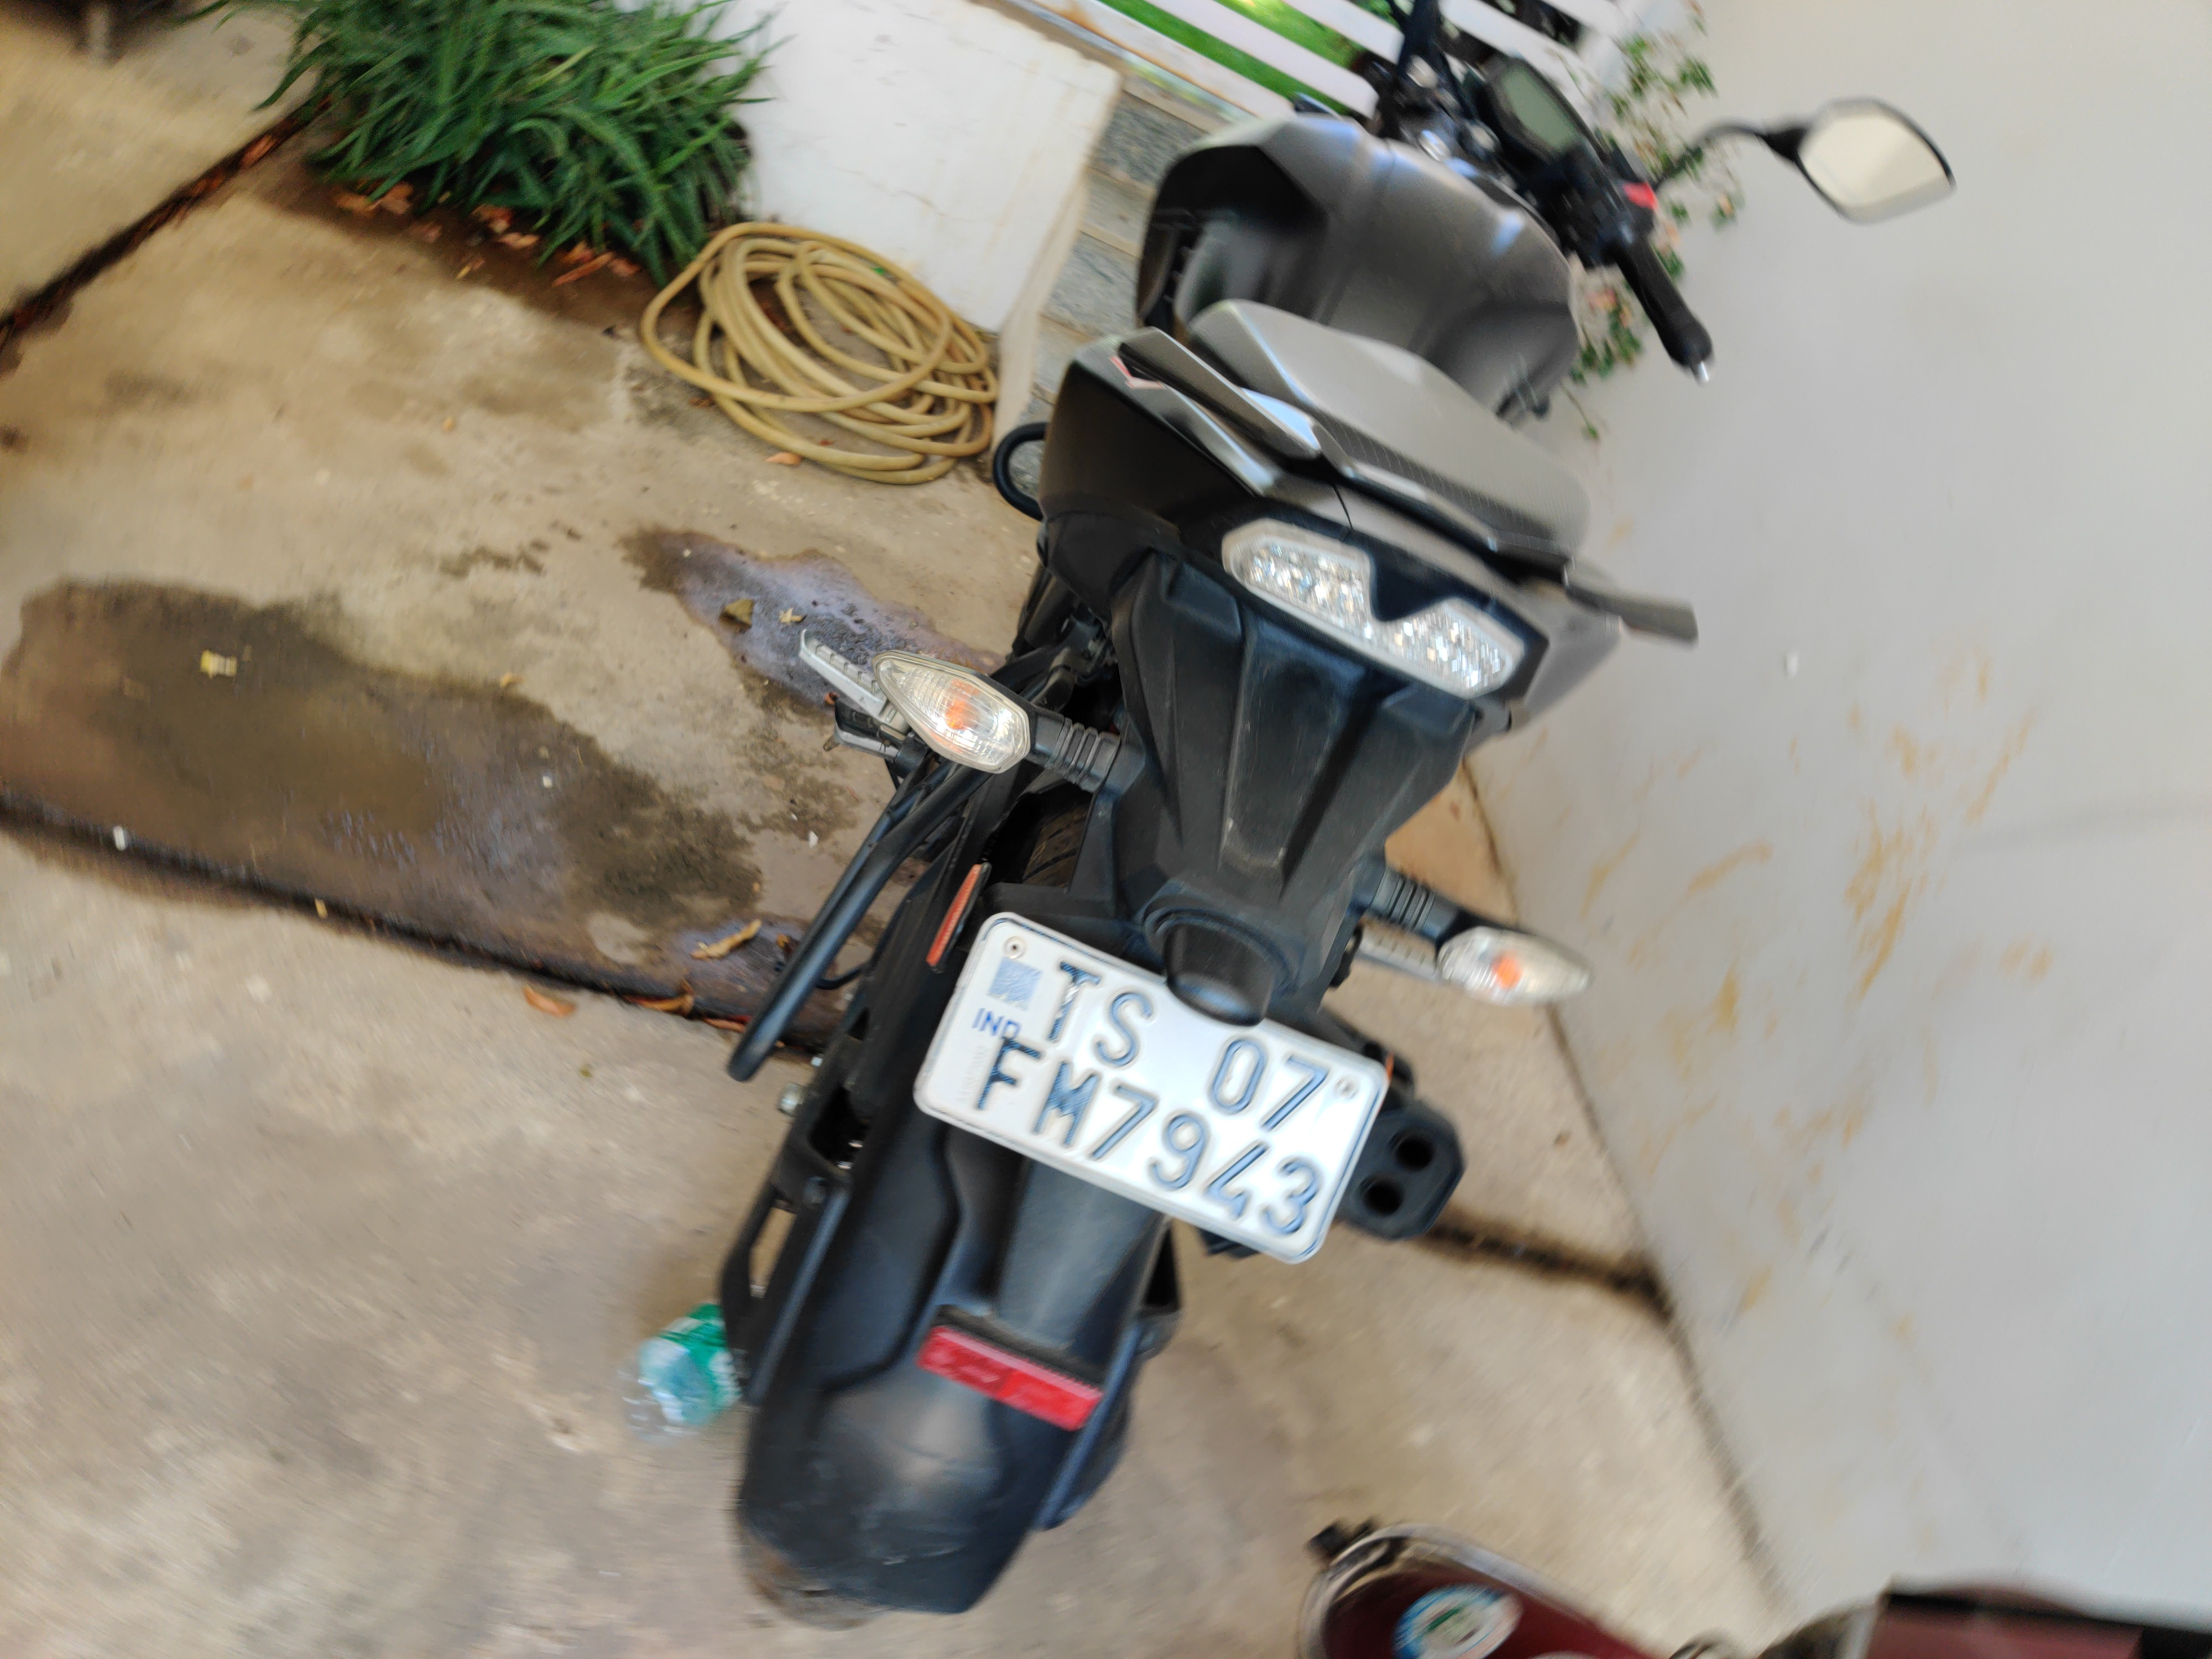plate: (908, 910, 1396, 1301)
